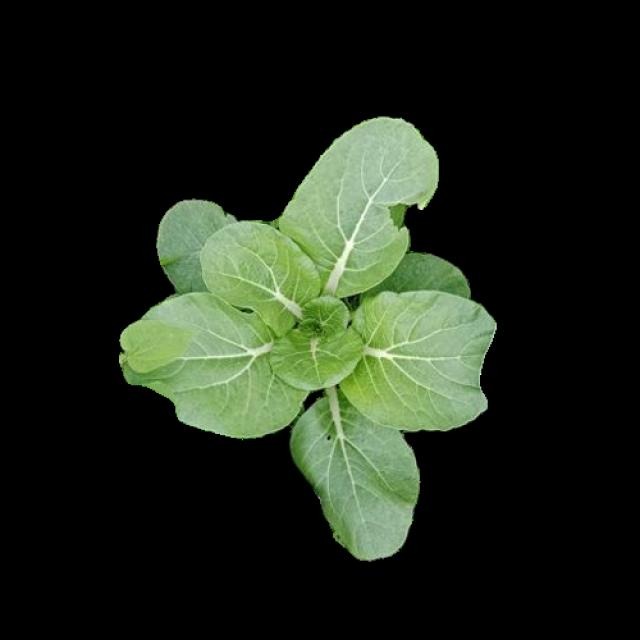not-mature: (122, 117, 498, 560)
unhealthy: (280, 120, 443, 287)
